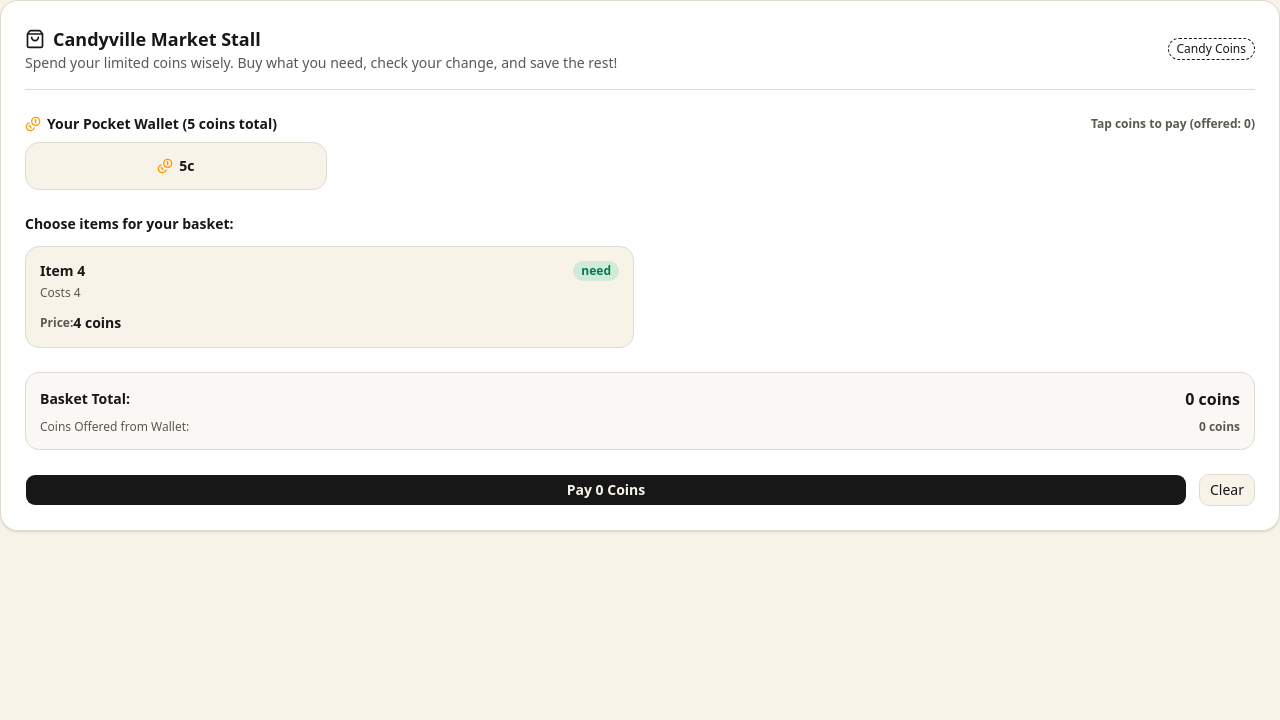
Test: CoinShopSimulation › checks for unavailable till change when offered coin requires change the shopkeeper cannot make
Click the button with test id "shop-item-item-4".
click(63, 270)  # box [25, 246, 634, 348]
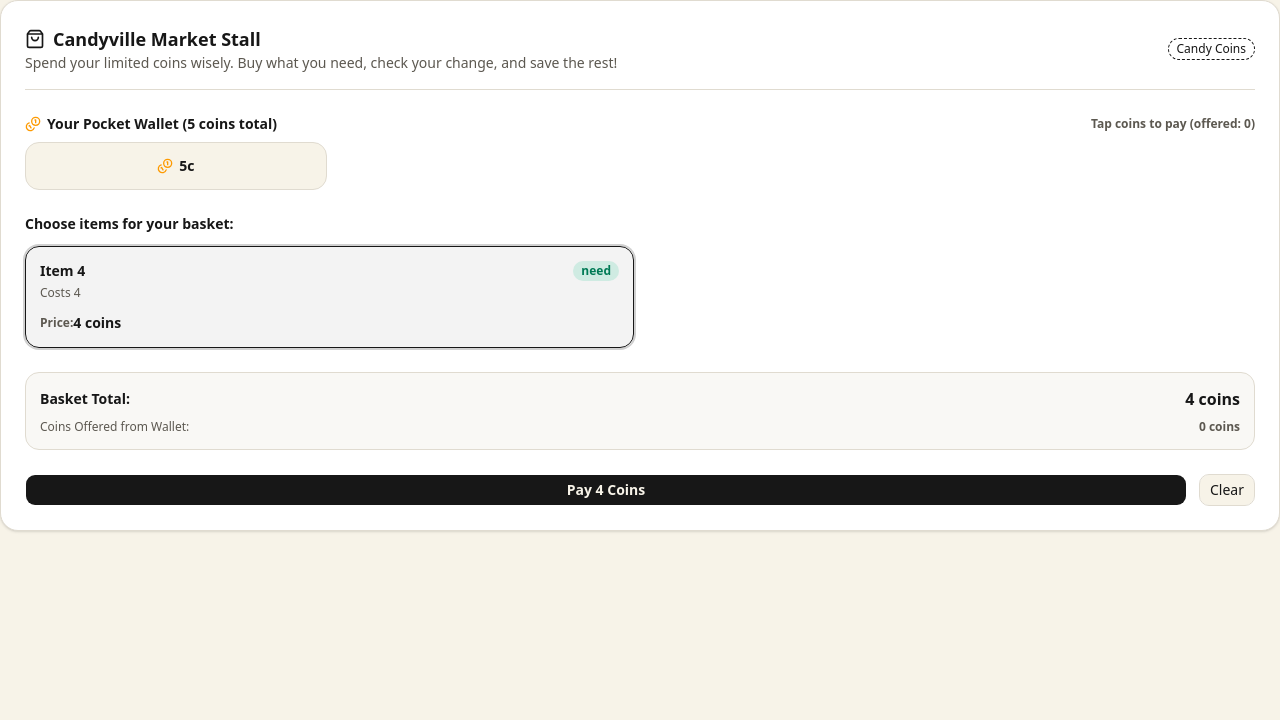
Click the button with test id "coin-wallet-coin-5".
click(176, 166)  # box [25, 142, 326, 190]
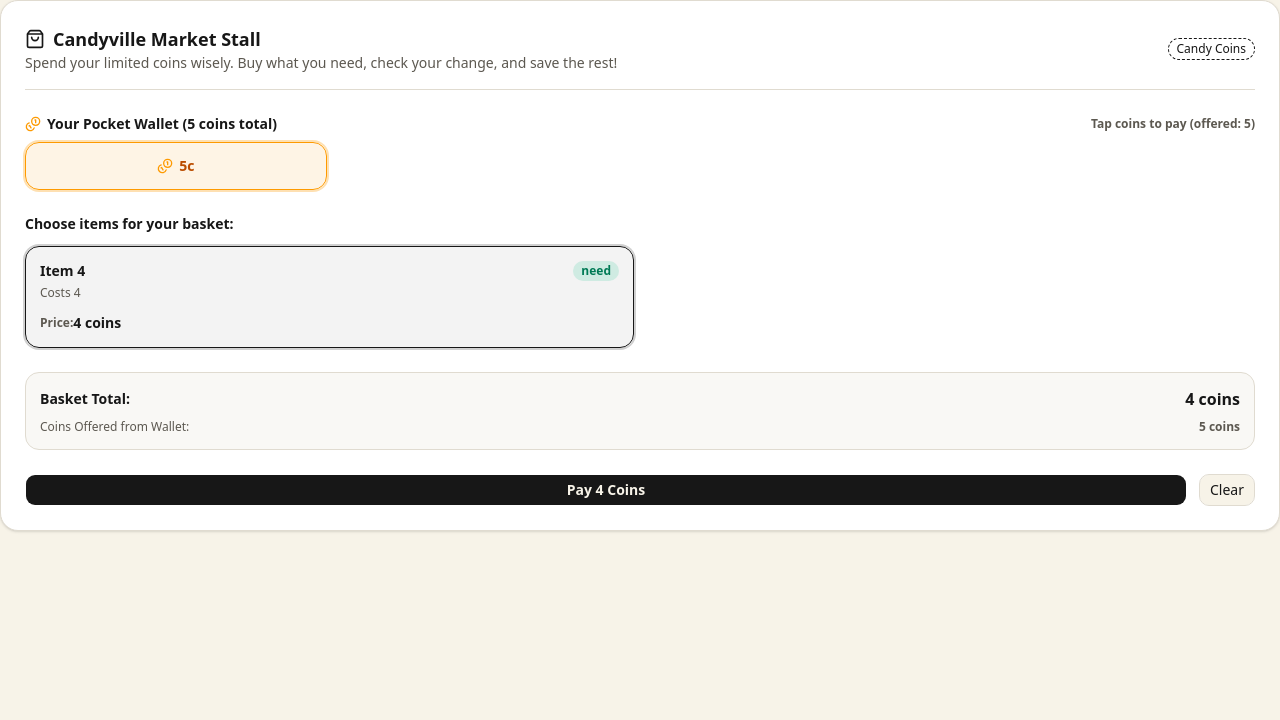
Click the button with test id "coin-shop-pay-btn".
click(606, 490)  # box [25, 474, 1187, 506]
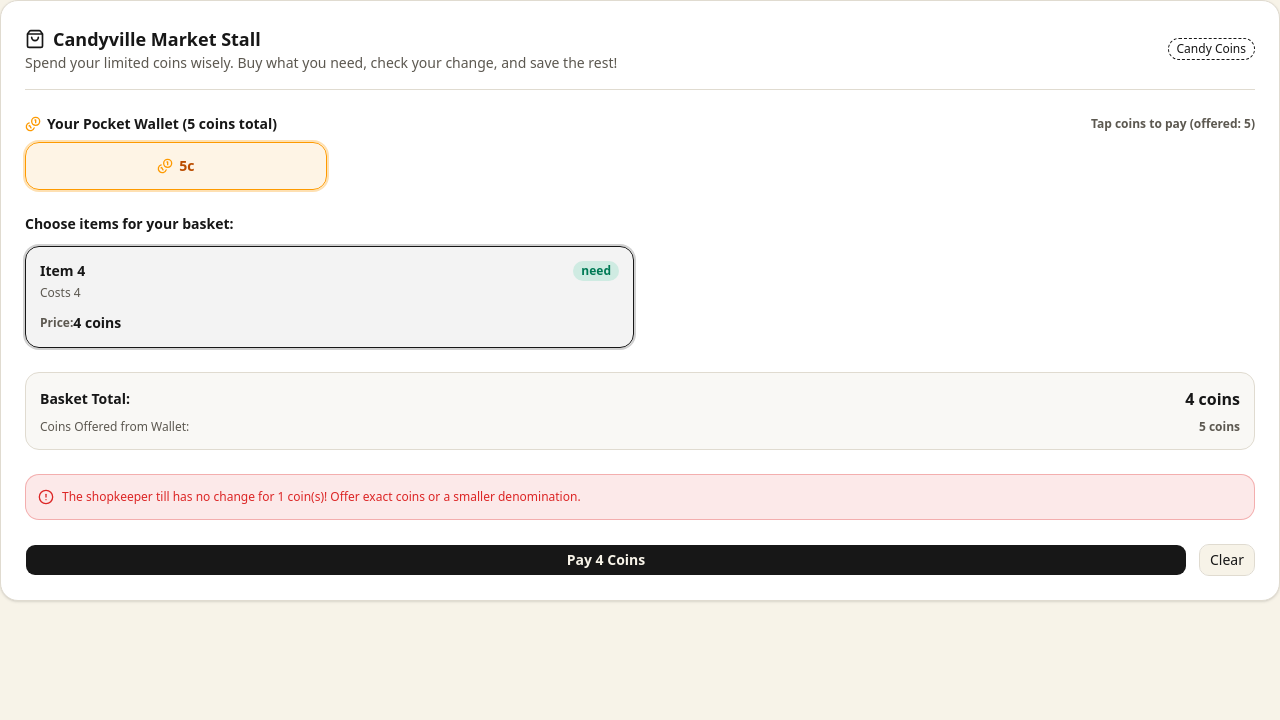
Expected: the message with test id "coin-shop-error" shows "The shopkeeper till has no change", [62, 488, 581, 505]
